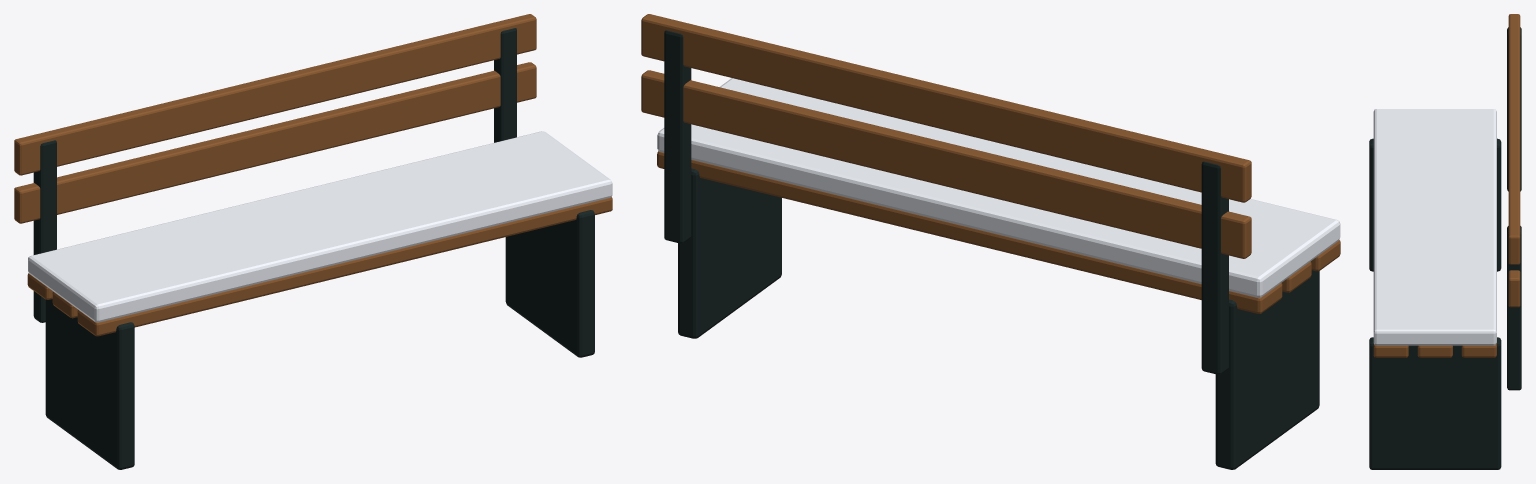
Rendered from bench.glb.
The picture shows the model from 3 angles, left to right: view 1: azimuth 30°, elevation 25°; view 2: azimuth 150°, elevation 25°; view 3: azimuth 270°, elevation 25°; orthographic projection. The views are drawn at different scales.
Visible parts, largest first — view 1: bench; view 2: bench; view 3: bench.
Part boxes in pixels (x1=…): bench: x1=14, y1=14, x2=612, y2=469; bench: x1=641, y1=14, x2=1340, y2=469; bench: x1=1369, y1=14, x2=1521, y2=469.
Size of the model in its own units: 1.8 by 0.915 by 0.52.
